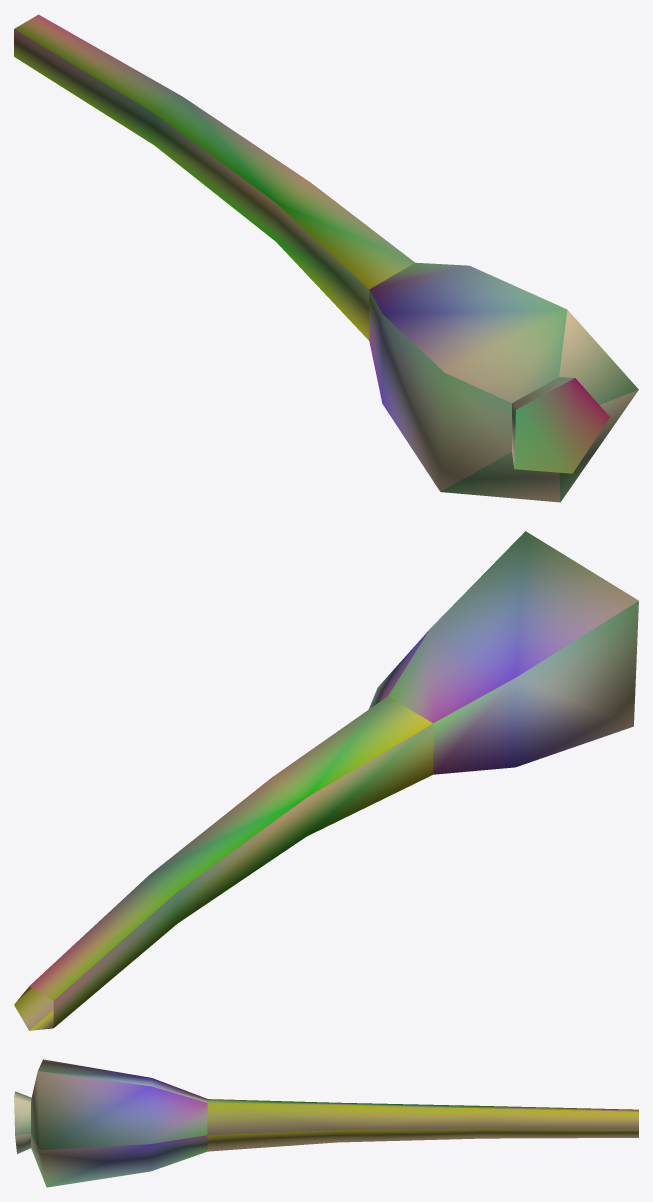
Rendered from Torch_lod1.glb.
3 renders of one model, top to bottom at view 1: azimuth 30°, elevation 25°; view 2: azimuth 150°, elevation 25°; view 3: azimuth 270°, elevation 25°, orthographic. The views are drawn at different scales.
Visible parts, largest first — view 1: MeshNode_0; view 2: MeshNode_0; view 3: MeshNode_0.
Boxes of the visible parts, box(x1,y1,x2,y2) form: MeshNode_0: box(14, 14, 638, 502); MeshNode_0: box(14, 531, 638, 1030); MeshNode_0: box(14, 1059, 638, 1187).
Size of the model in its own units: 0.8119 by 0.8043 by 3.91.
